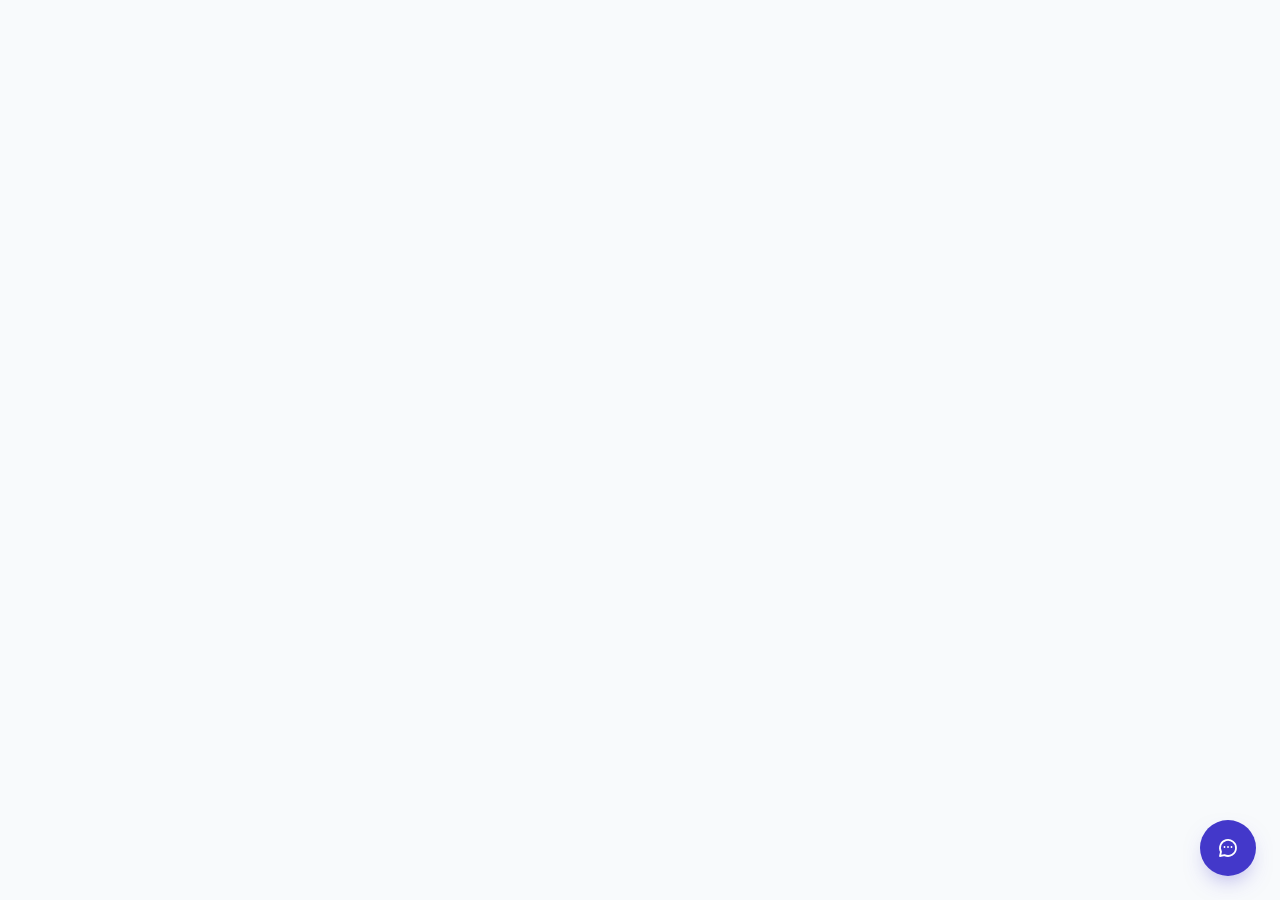
Test case: duplicate submissions are ignored while a request is pending
The image size is (1280, 900).
Later steps or results of the test are not shown.
Click the button named "Ask PortfolioAI about Irfan's work": x=1228, y=848 [1200,820,1256,876]
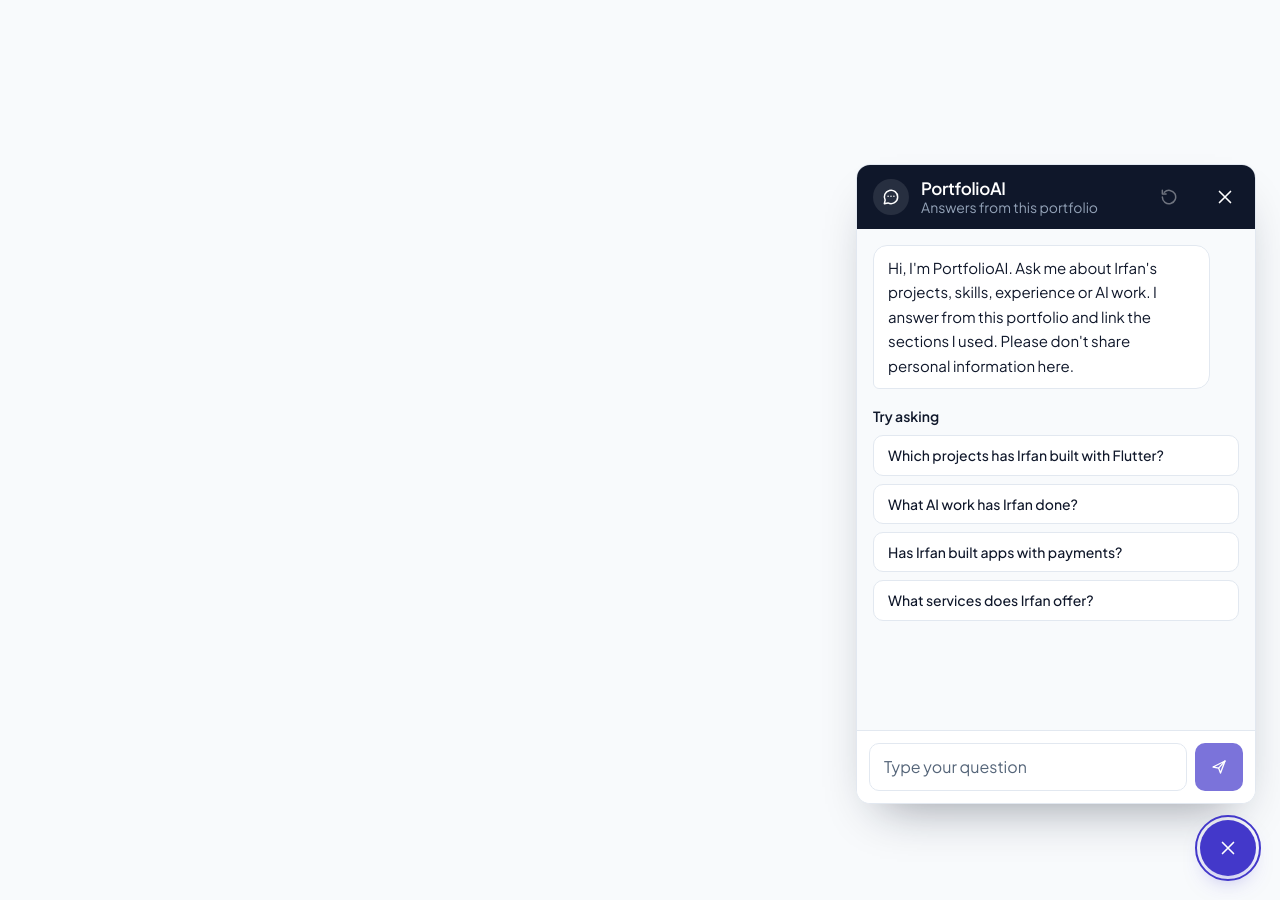
In the text box labelled "your question": x=1028, y=767 [869,743,1187,791], type "First question"
Then press Enter
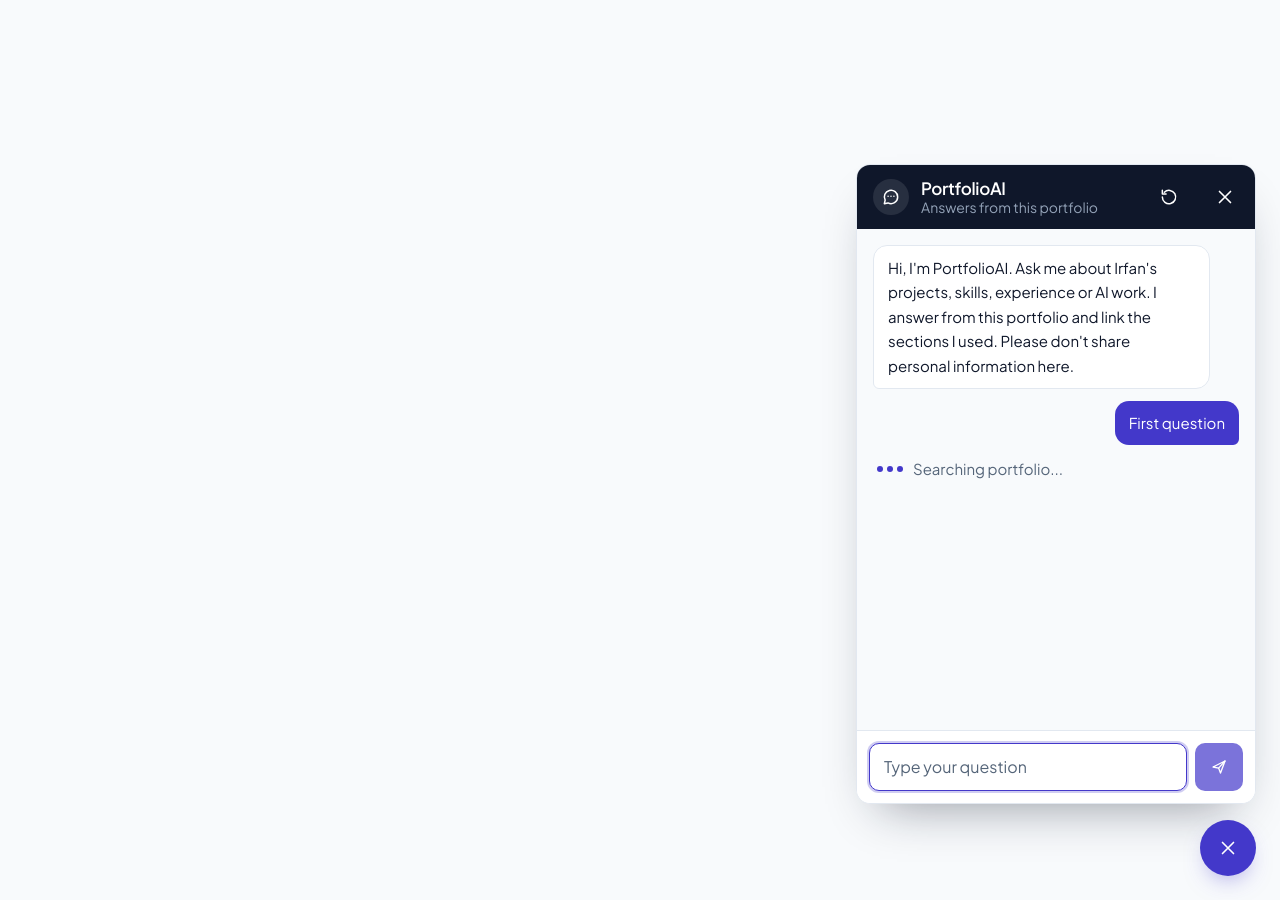
In the text box labelled "your question": x=1028, y=767 [869,743,1187,791], type "Second question"
Then press Enter
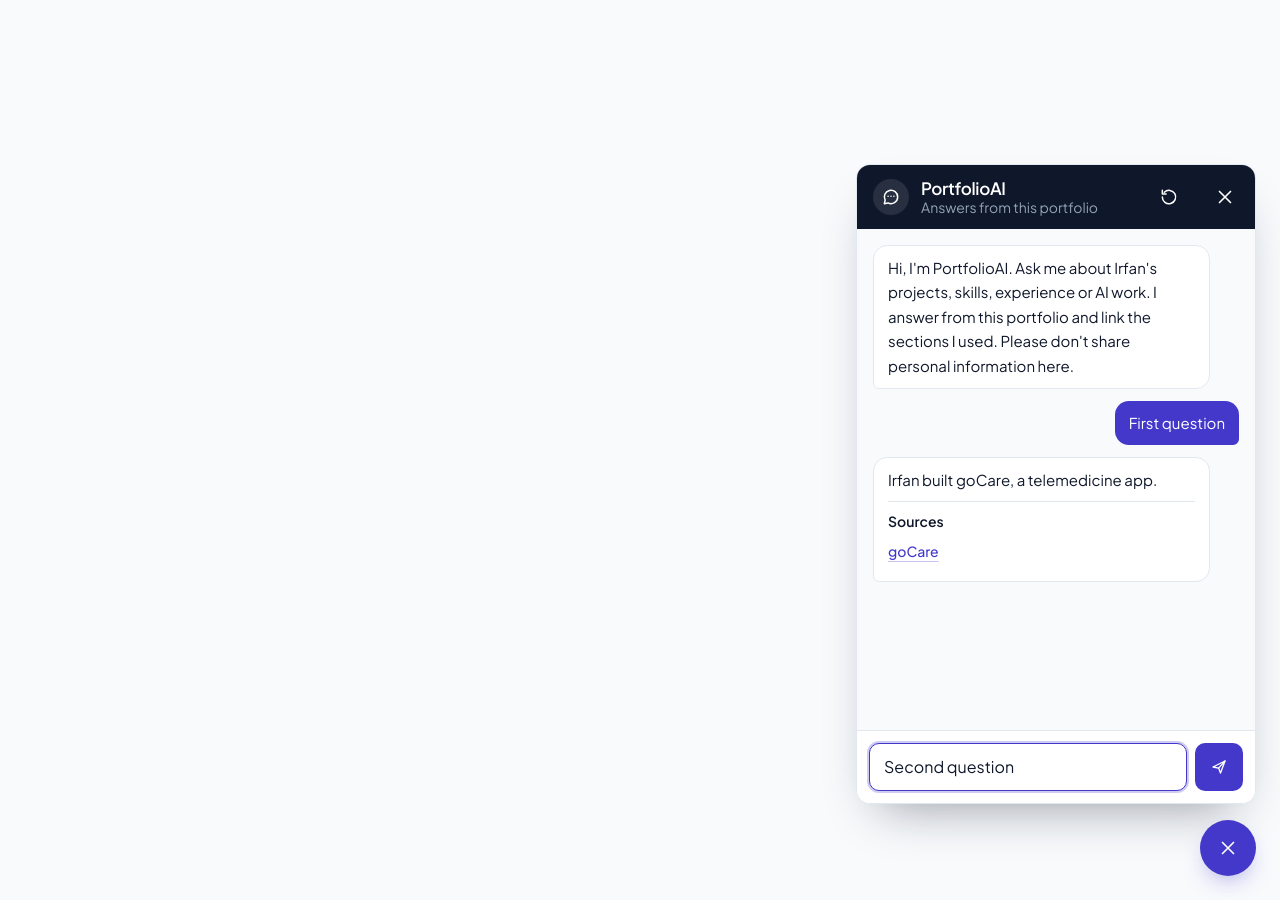
Check: the text "Irfan built goCare, a telemedicine app." is shown, box [888,468,1195,493]
